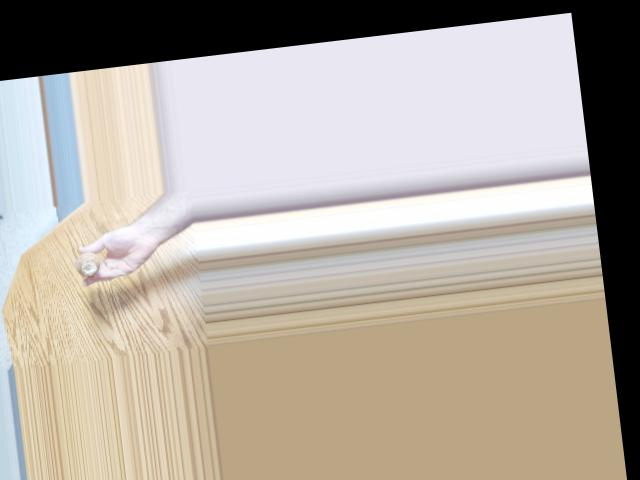sweet_potato: (73, 248, 98, 277)
